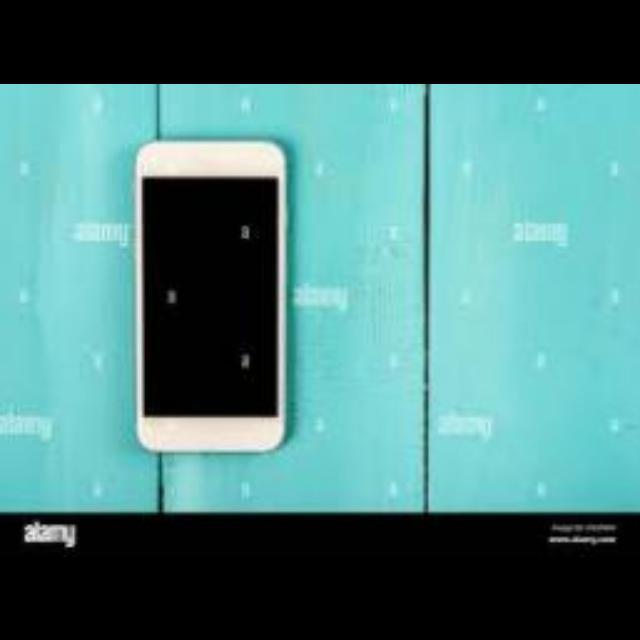Phone: (136, 134, 288, 450)
